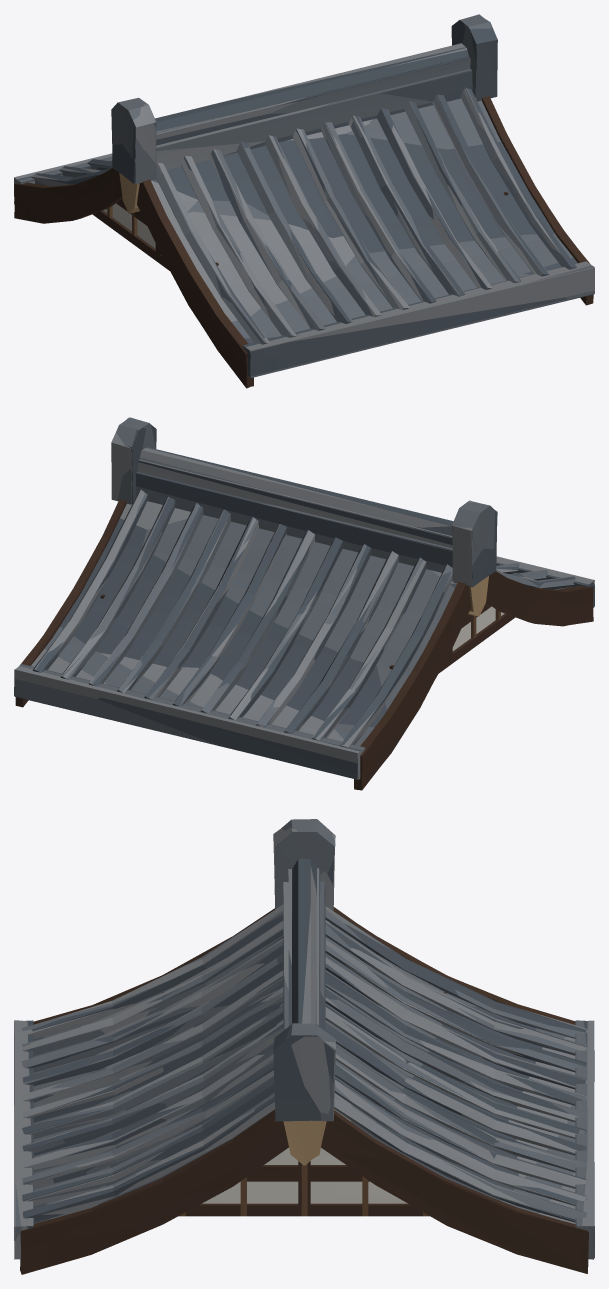
The model's file is roof.gable.glb.
3 renders of one model, top to bottom at view 1: azimuth 30°, elevation 25°; view 2: azimuth 150°, elevation 25°; view 3: azimuth 270°, elevation 25°, orthographic. The views are drawn at different scales.
Parts seen in each view (by area): view 1: roof.gable.v1.mesh, roof.gable.v0.mesh, roof.gable.v2.mesh; view 2: roof.gable.v1.mesh, roof.gable.v0.mesh, roof.gable.v2.mesh; view 3: roof.gable.v2.mesh, roof.gable.v0.mesh, roof.gable.v1.mesh.
Boxes of the visible parts, x1,y1,x2,y2 form: roof.gable.v1.mesh: [14, 19, 594, 388]; roof.gable.v0.mesh: [15, 14, 594, 378]; roof.gable.v2.mesh: [14, 43, 594, 387]; roof.gable.v1.mesh: [14, 418, 594, 788]; roof.gable.v0.mesh: [14, 417, 594, 789]; roof.gable.v2.mesh: [14, 432, 594, 790]; roof.gable.v2.mesh: [14, 827, 594, 1273]; roof.gable.v0.mesh: [15, 819, 594, 1274]; roof.gable.v1.mesh: [14, 859, 594, 1273].
Size of the model in its own units: 2.53 by 1.33 by 2.87.
